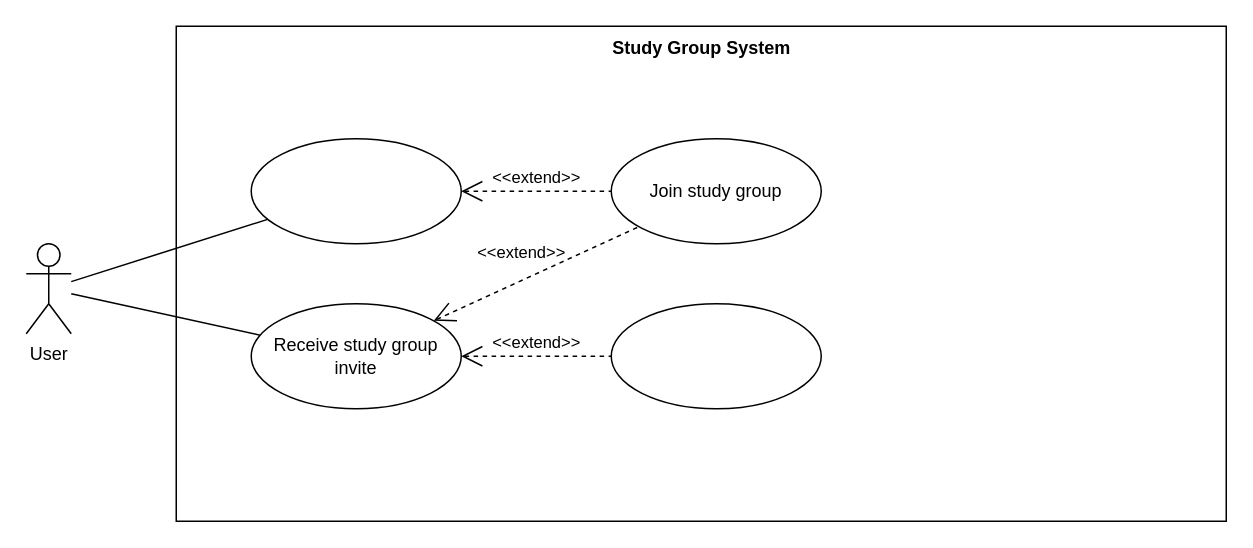
The diagram is 1253 pixels wide and 548 high, and some of its shapes have lost their labels. Each missing label, with the centre of its shape:
"Decline study group invite" goes at (715,355).
"Search for study group" goes at (355,190).
